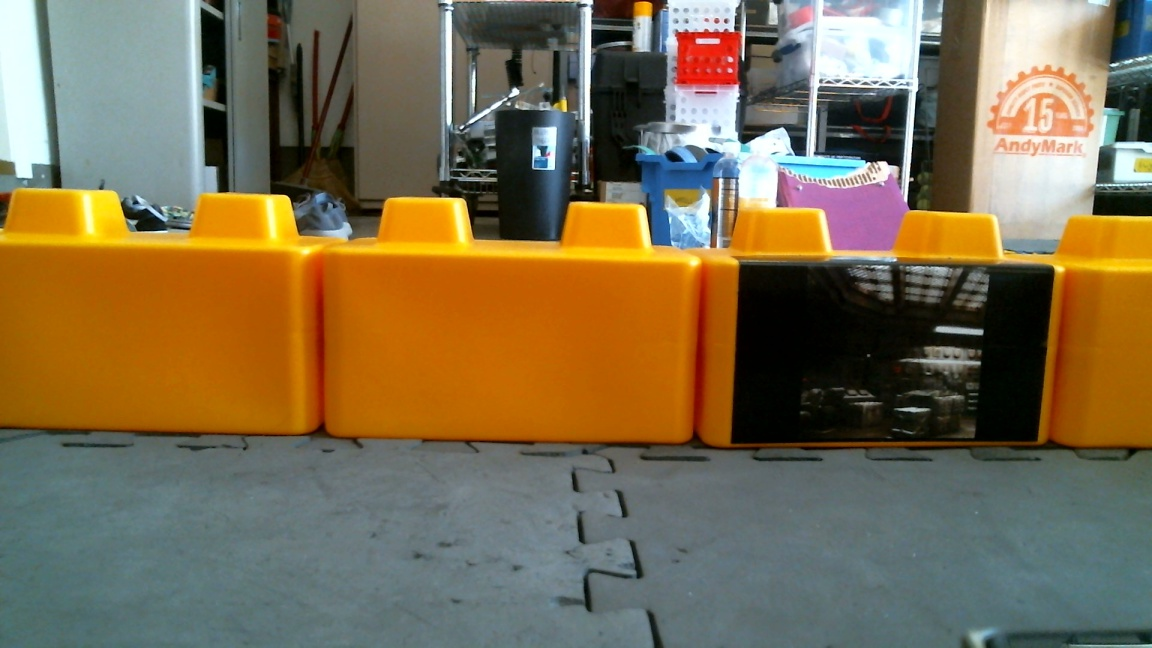right: (1, 164, 1057, 464)
